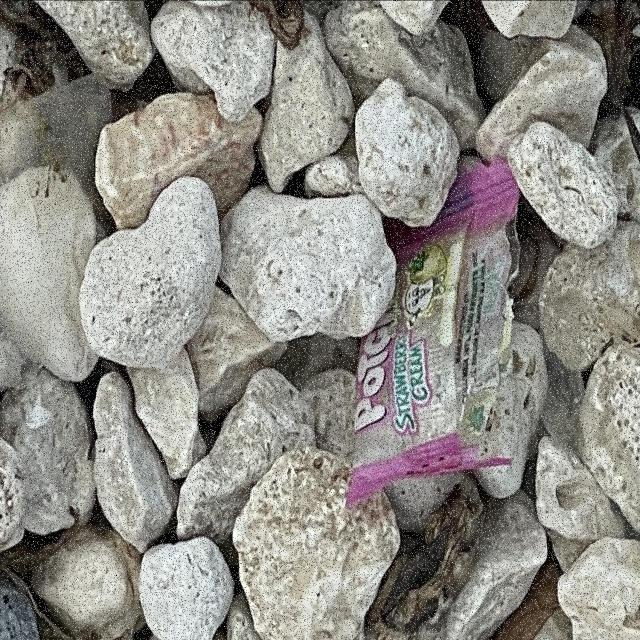plastic_waste: (349, 155, 521, 508)
